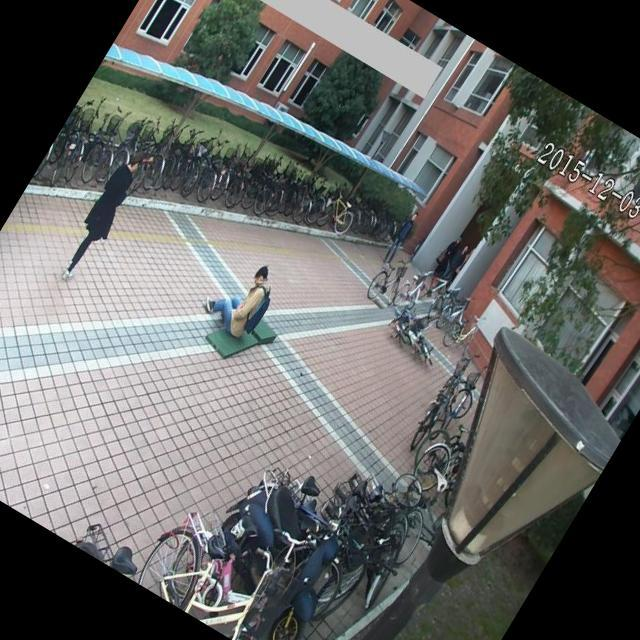person: (49, 134, 161, 290), (197, 245, 289, 349), (375, 202, 426, 271)
